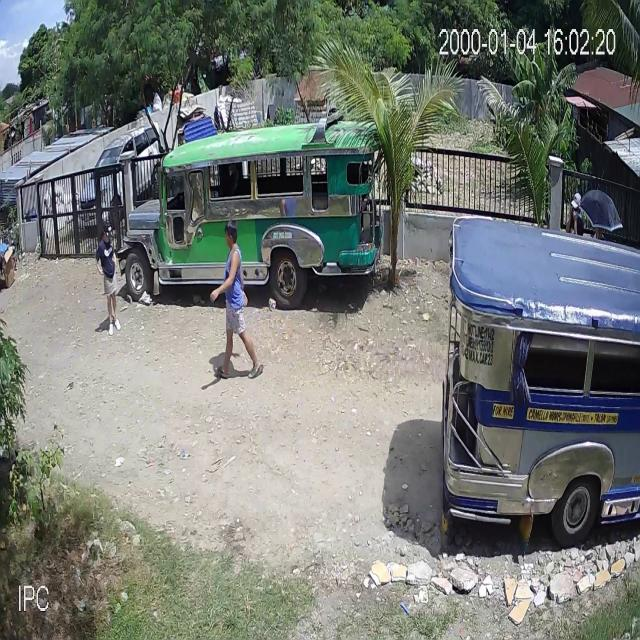standing: (96, 221, 123, 339), (566, 192, 587, 246), (590, 218, 608, 252)
walking: (217, 209, 265, 379)
